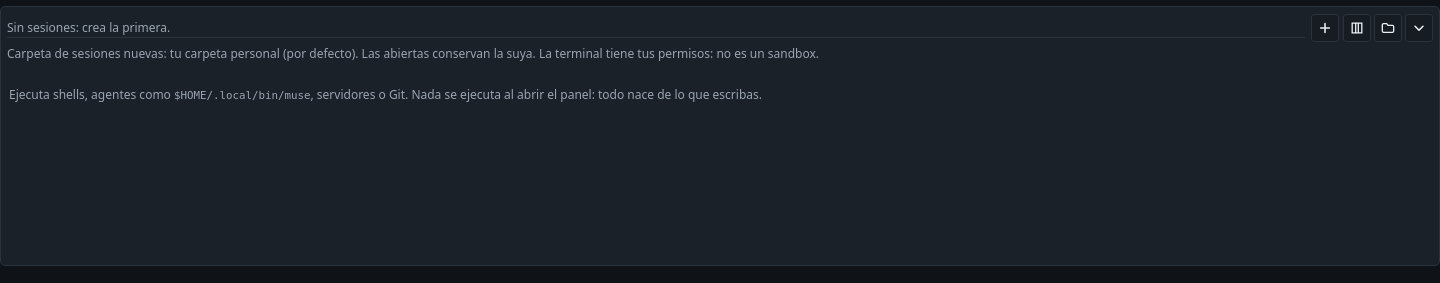
Test: terminales: pestañas y paralelo › cambia de pestaña con salida independiente y única
Click the button named "Nueva terminal": (1325, 28) top-left (1311, 14), bottom-right (1339, 42)
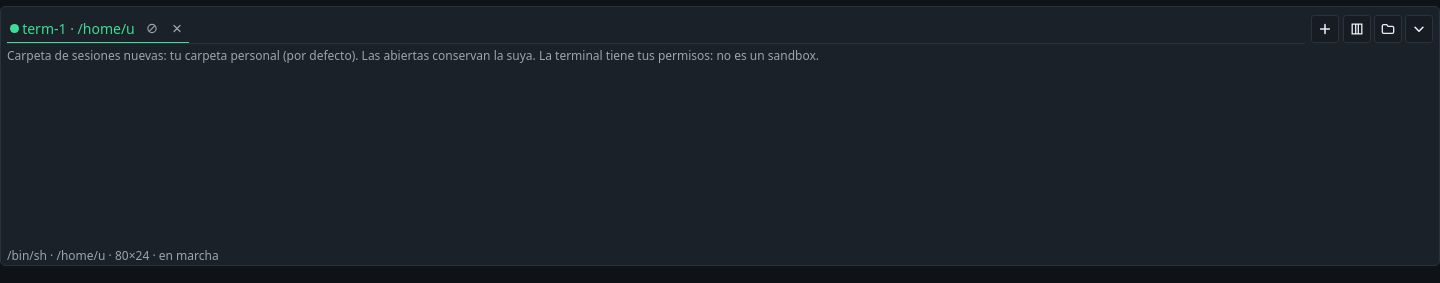
Now the number of tabs is 1, box top-left (7, 14), bottom-right (138, 42)
Click the button named "Nueva terminal": (1325, 29) top-left (1311, 15), bottom-right (1339, 43)
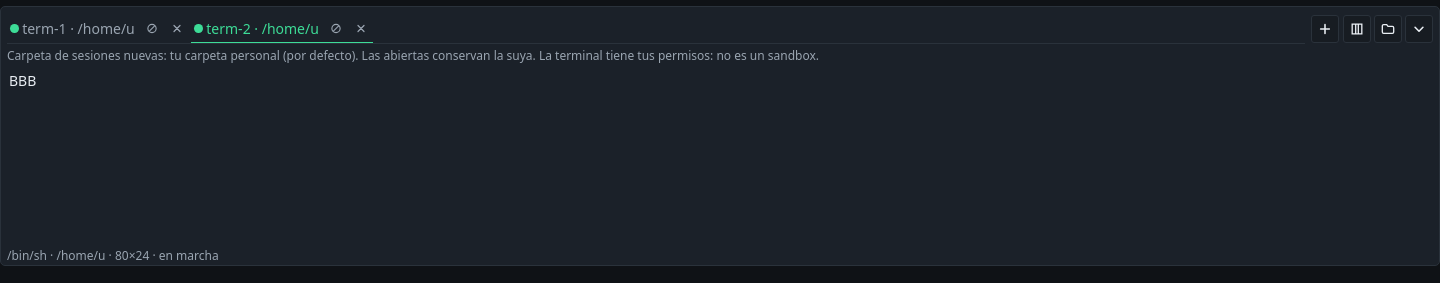
Now the number of tabs is 2
Now the text "BBB" is shown, box top-left (9, 71), bottom-right (36, 90)
Click the tab "term-1 · /home/u": (72, 28) top-left (7, 14), bottom-right (138, 42)
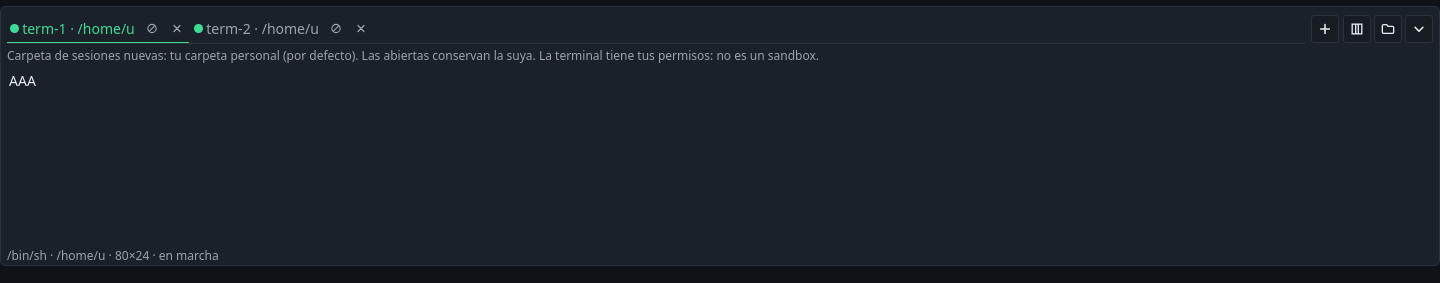
Now the text "AAA" is shown, box top-left (9, 71), bottom-right (36, 90)
